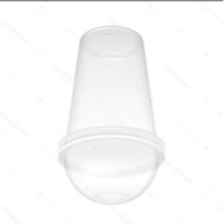glass: (50, 20, 171, 208)
